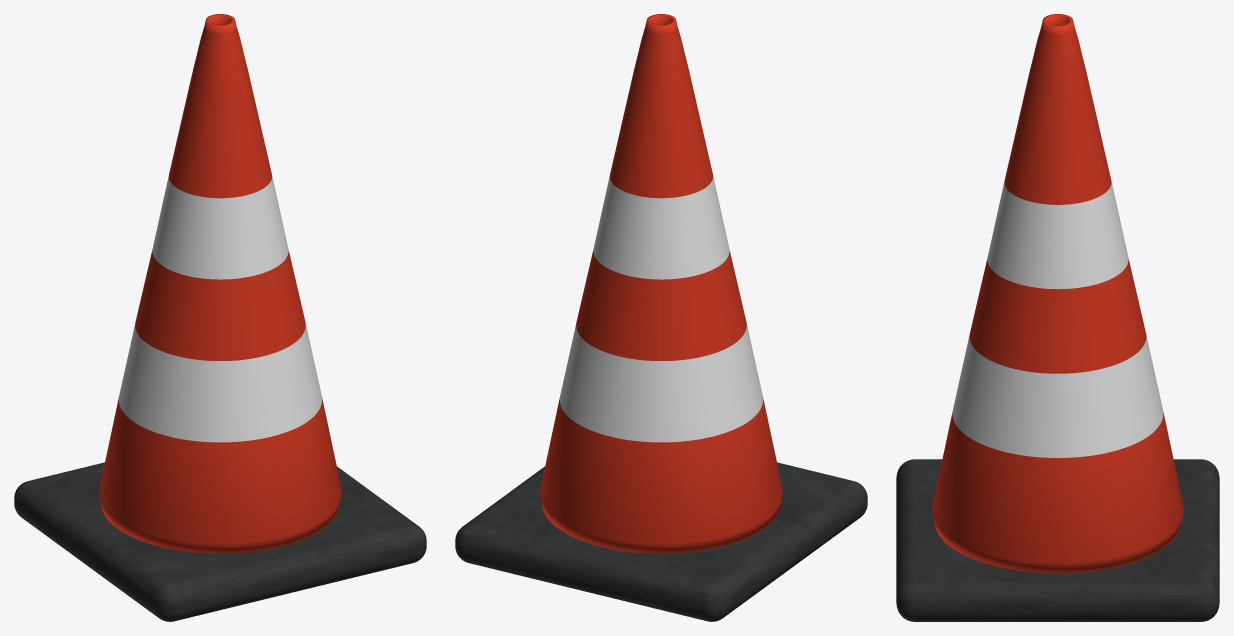
The model's file is traffic_cone.glb.
The picture shows the model from 3 angles, left to right: view 1: azimuth 30°, elevation 25°; view 2: azimuth 150°, elevation 25°; view 3: azimuth 270°, elevation 25°; orthographic projection. The views are drawn at different scales.
Visible parts, largest first — view 1: Hollow cone with integrated white sleeves, Rounded square ballast base; view 2: Hollow cone with integrated white sleeves, Rounded square ballast base; view 3: Hollow cone with integrated white sleeves, Rounded square ballast base.
Part boxes in pixels (left/top/right/bottom): Hollow cone with integrated white sleeves: left=99, top=14, right=341, bottom=553; Rounded square ballast base: left=14, top=462, right=426, bottom=621; Hollow cone with integrated white sleeves: left=540, top=14, right=782, bottom=553; Rounded square ballast base: left=455, top=462, right=867, bottom=621; Hollow cone with integrated white sleeves: left=932, top=14, right=1183, bottom=573; Rounded square ballast base: left=896, top=459, right=1219, bottom=621.
Size of the model in its own units: 0.38 by 0.7 by 0.38.
Materials: 3 (1 with a texture image).
